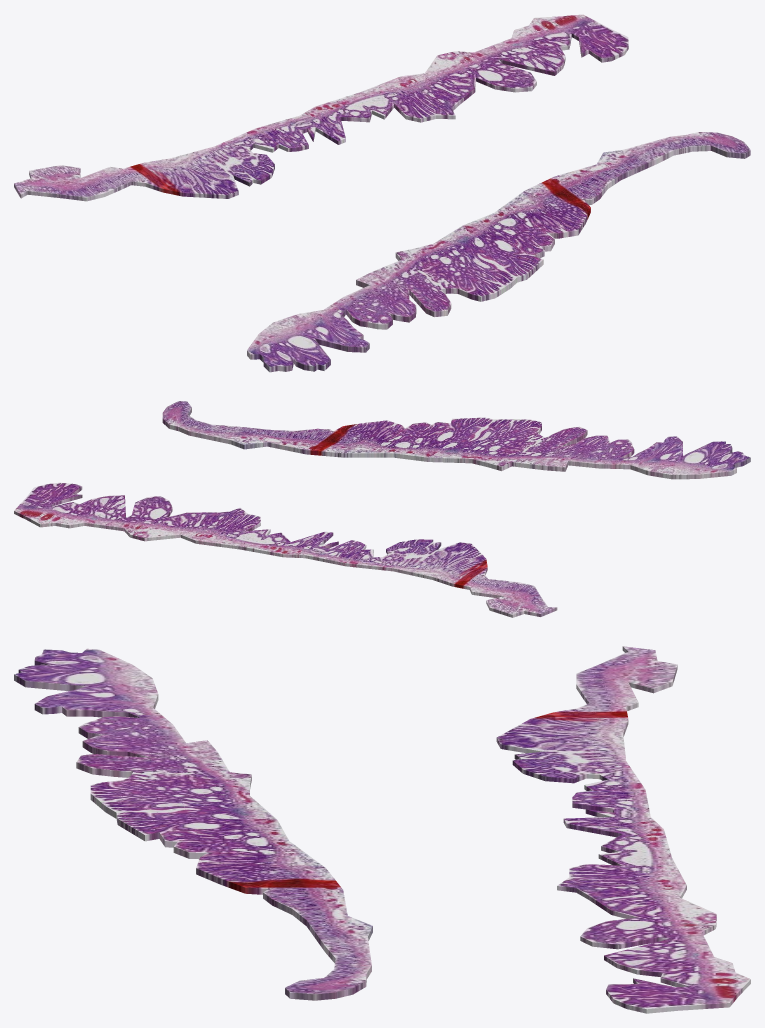
The picture shows the model from 3 angles, top to bottom: view 1: azimuth 30°, elevation 25°; view 2: azimuth 150°, elevation 25°; view 3: azimuth 270°, elevation 25°; orthographic projection. The views are drawn at different scales.
Parts seen in each view (by area): view 1: 平面; view 2: 平面; view 3: 平面.
Boxes of the visible parts, <box> form: 平面: <box>14,14,750,372</box>; 平面: <box>14,401,750,617</box>; 平面: <box>14,646,750,1013</box>.
Bounding box in the file's own units: 24.5 × 0.197 × 21.02.
Materials: 1 (1 with a texture image).
